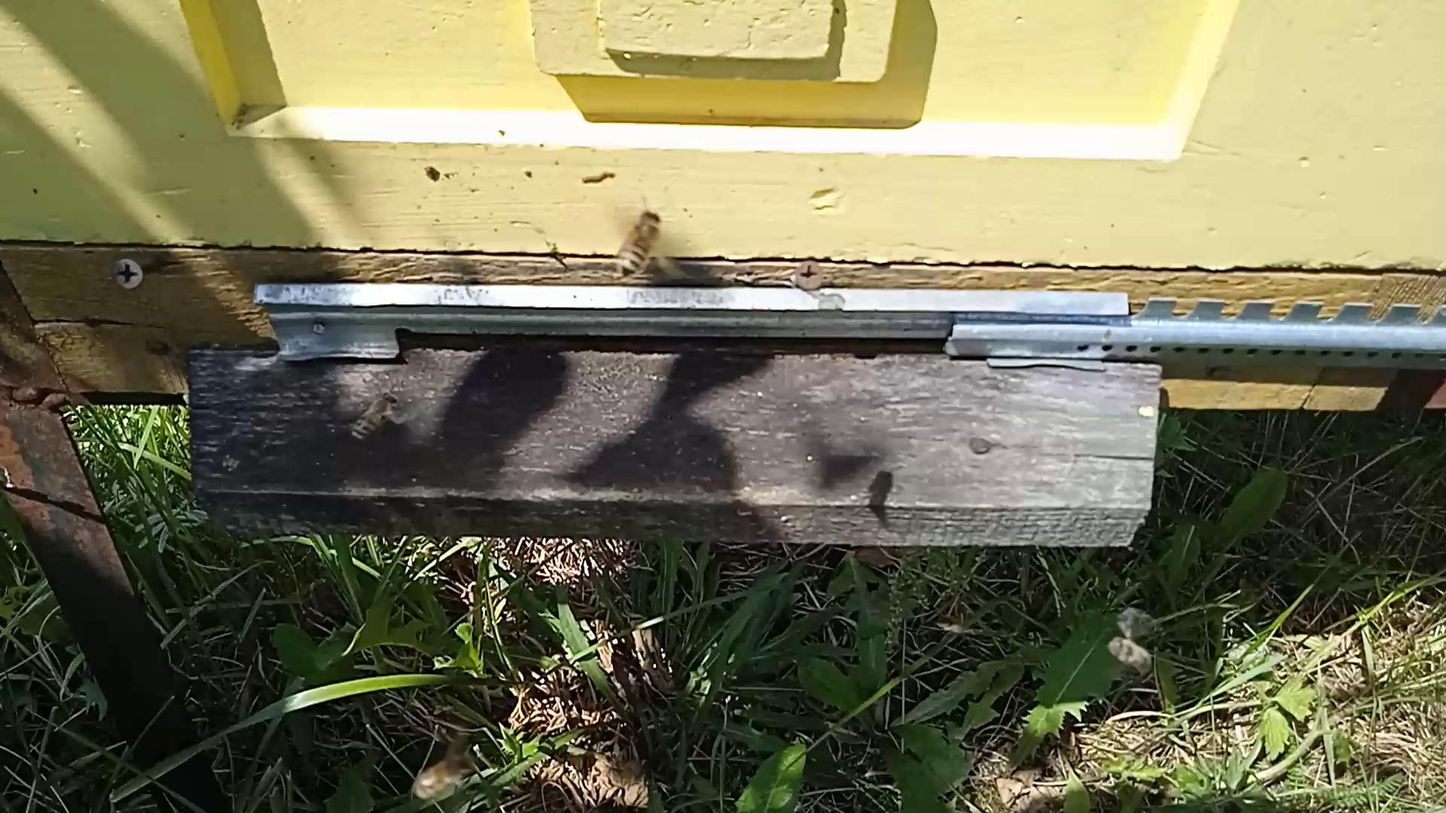worker-bee: (618, 209, 664, 278), (412, 757, 478, 802), (350, 394, 398, 441), (1107, 636, 1153, 672)
